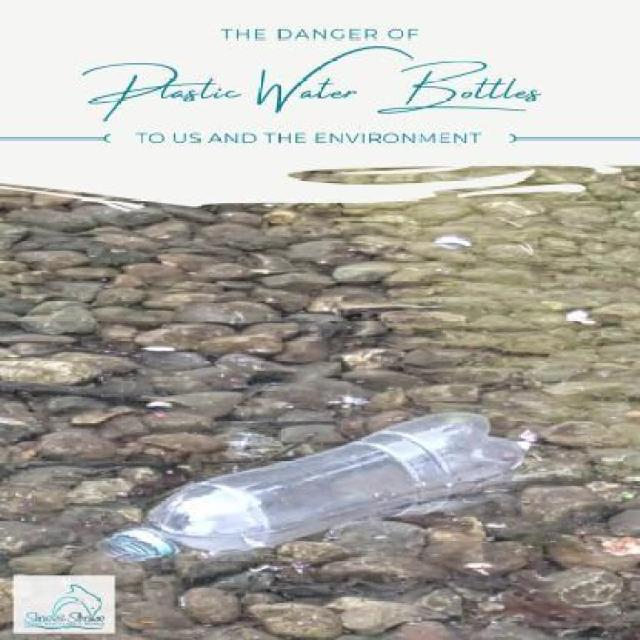bottle: (95, 371, 599, 604)
